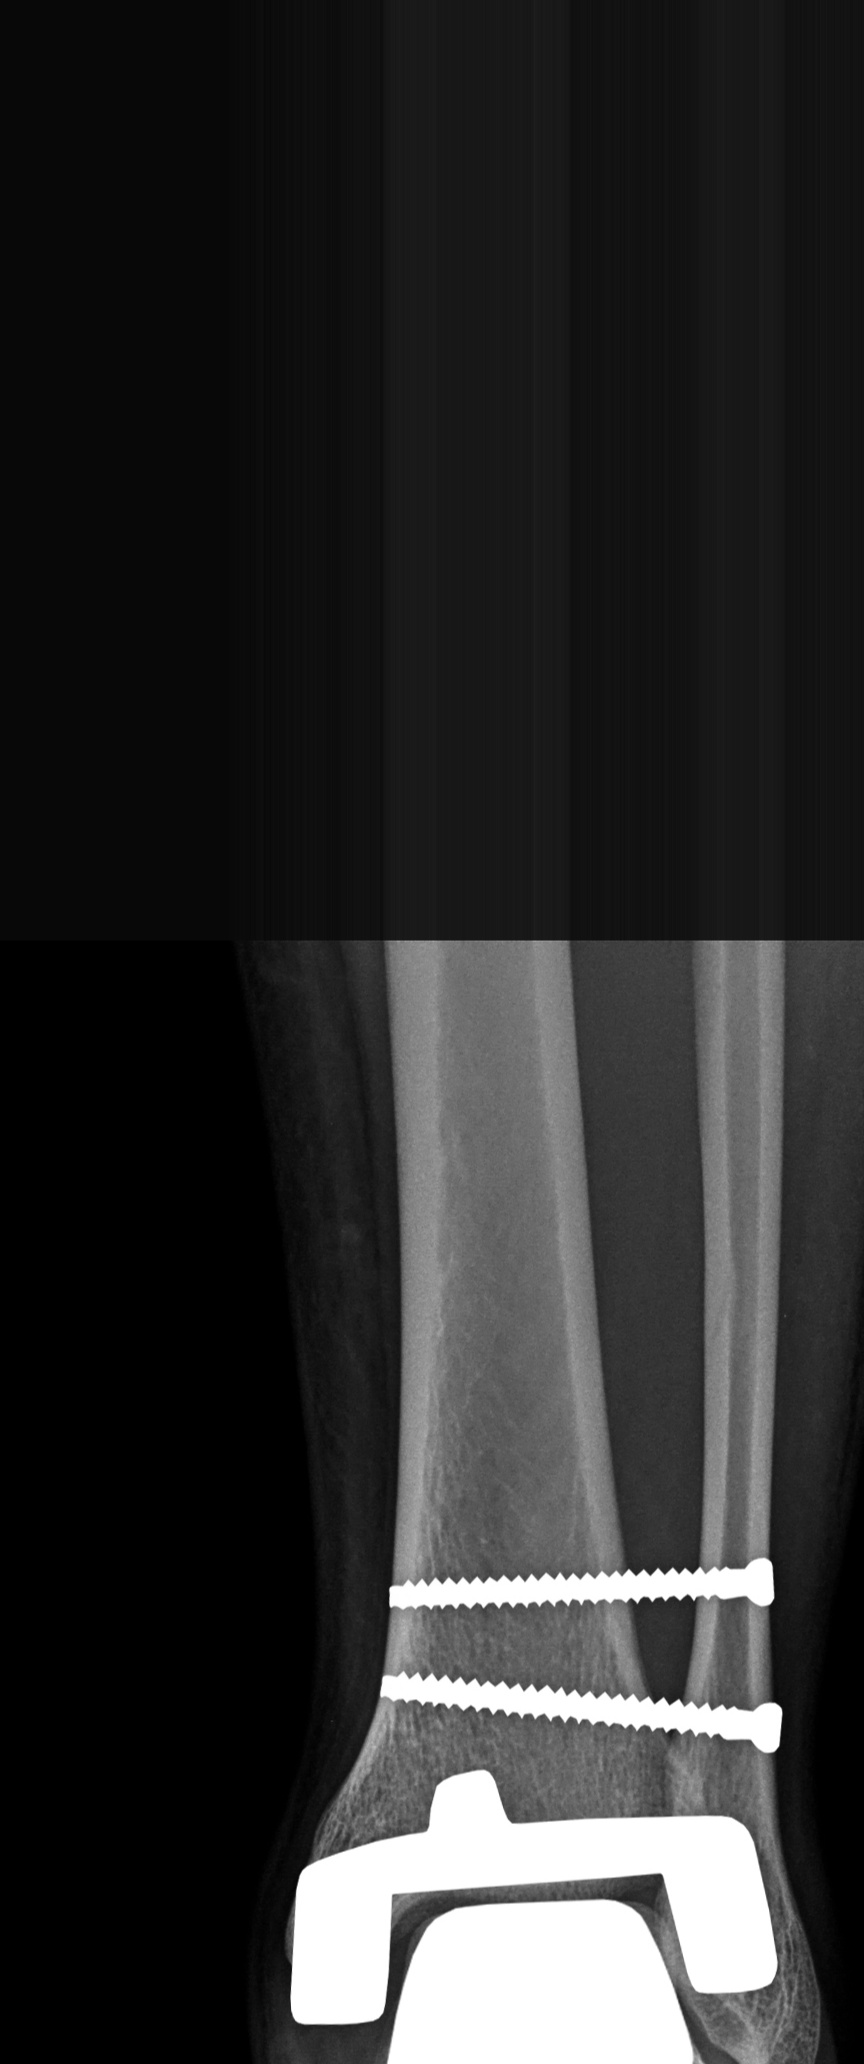Agility-Depuy: (249, 1557, 794, 2064)
